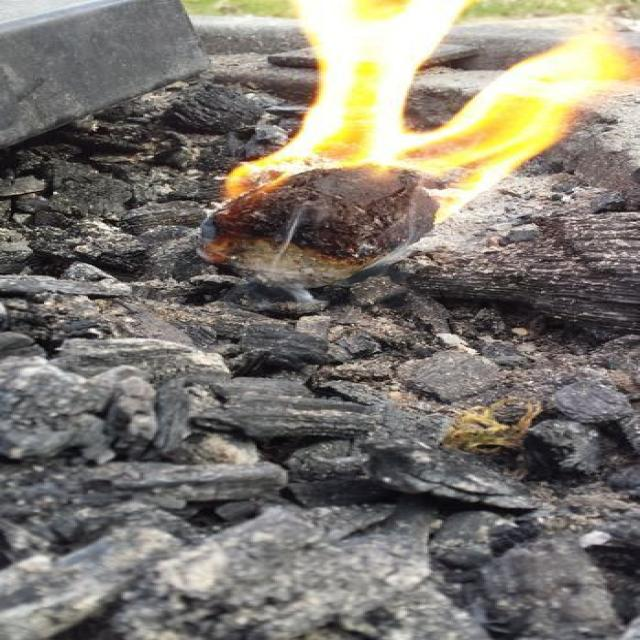fire: (223, 0, 625, 225)
